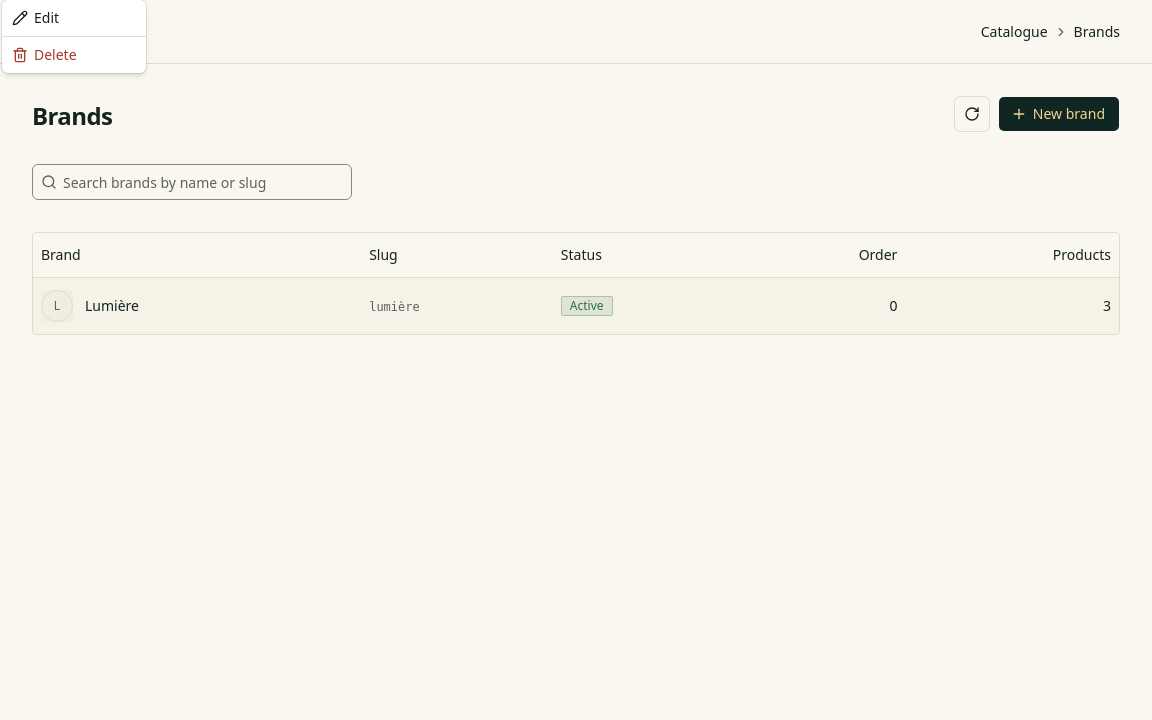
brands › opens a brand's actions on right-click
The image size is (1152, 720).
Click the menu item "Edit". click: (36, 18)
box: x1=12 y1=8 x2=59 y2=27
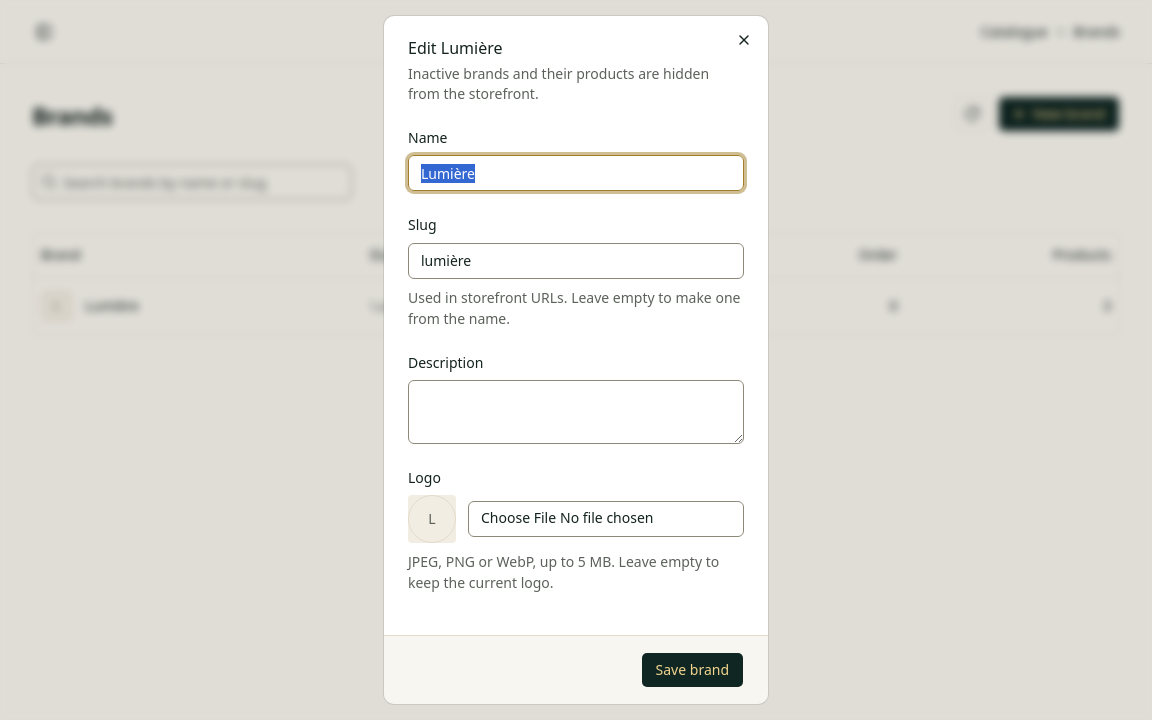
Now the dialog "Edit Lumière" is shown, box x1=384 y1=16 x2=768 y2=704
